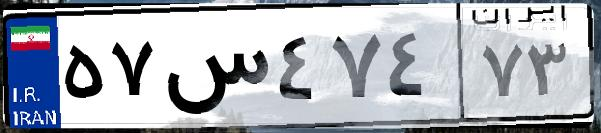3: (525, 38, 570, 115)
4: (270, 28, 330, 110), (385, 28, 445, 110)
5: (57, 26, 110, 100)
7: (330, 28, 385, 110), (475, 38, 525, 113), (110, 28, 158, 98)
س: (158, 20, 270, 120)
